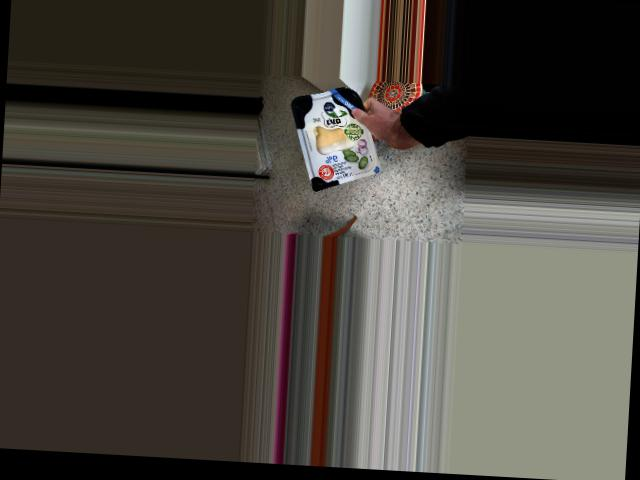cheese: (285, 83, 382, 195)
